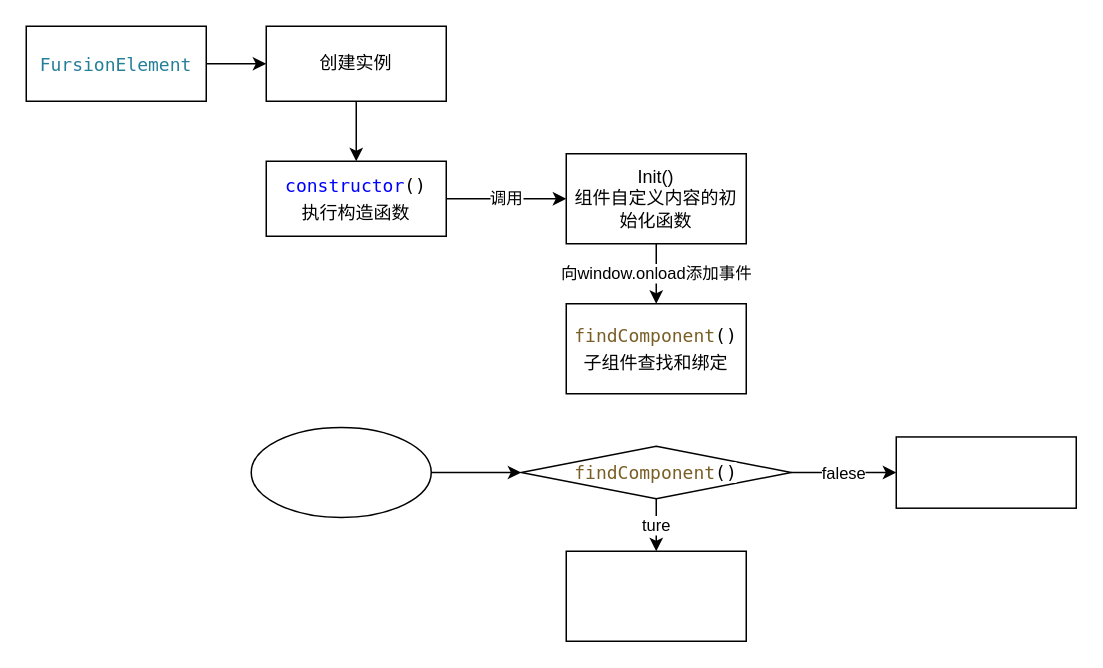
Image size: 1103x668. Some labels were removed from this diagram. The centre of each missing label's shape, as x and y in pixels:
"DoSomething" belongs at (655,595).
"Window.onload" belongs at (340,472).
"输出异常" belongs at (985,471).
